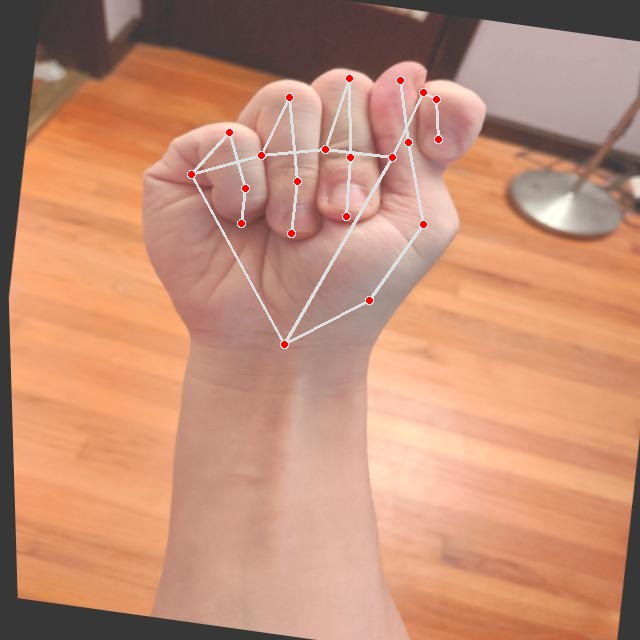T: (107, 20, 509, 397)
